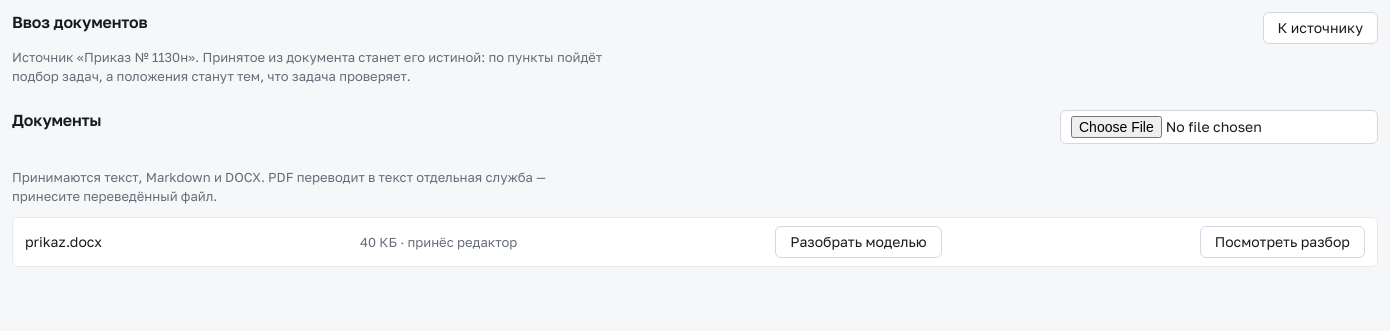
страница ввоза › отдаёт документ модели и не ждёт разбора на открытой вкладке
Click the button "Разобрать моделью" at x=858, y=242, box x1=775 y1=226 x2=942 y2=258
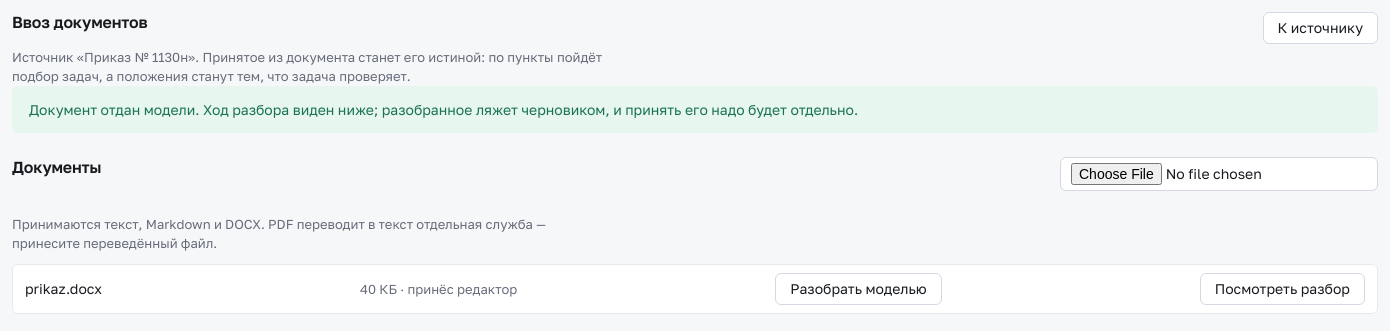
Expected: the text "Документ отдан модели" is shown, x1=29 y1=101 x2=858 y2=118
